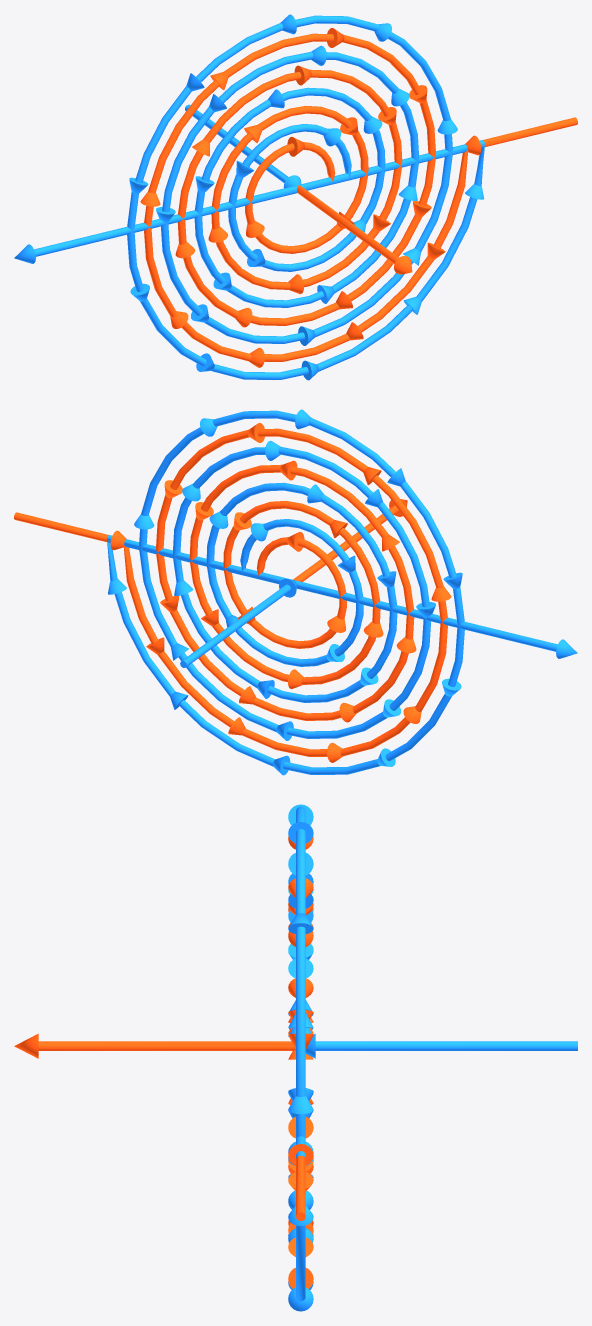
Rendered from spiral_heat_exchanger_flow.glb.
3 renders of one model, top to bottom at view 1: azimuth 30°, elevation 25°; view 2: azimuth 150°, elevation 25°; view 3: azimuth 270°, elevation 25°, orthographic. The views are drawn at different scales.
Parts seen in each view (by area): view 1: cold_outward, hot_inward; view 2: cold_outward, hot_inward; view 3: cold_outward, hot_inward.
Boxes of the visible parts, <box> form: cold_outward: <box>14,14,484,380</box>; hot_inward: <box>140,28,577,367</box>; cold_outward: <box>107,409,577,775</box>; hot_inward: <box>14,423,451,762</box>; cold_outward: <box>288,804,577,1311</box>; hot_inward: <box>14,836,313,1288</box>.
Bounding box in the file's own units: 1.16 × 0.7286 × 0.804.
